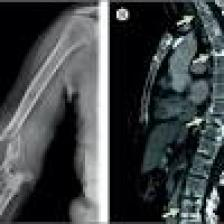pathological-fracture: (0, 1, 96, 223), (138, 0, 224, 224)
